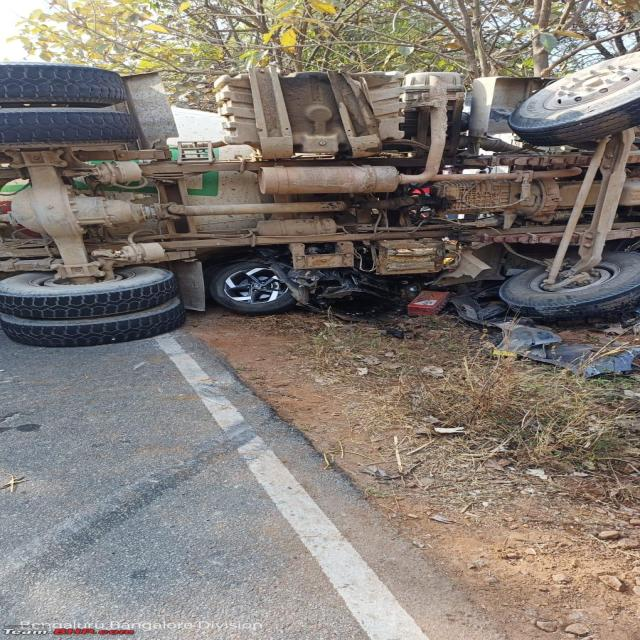accident: (0, 52, 640, 344)
